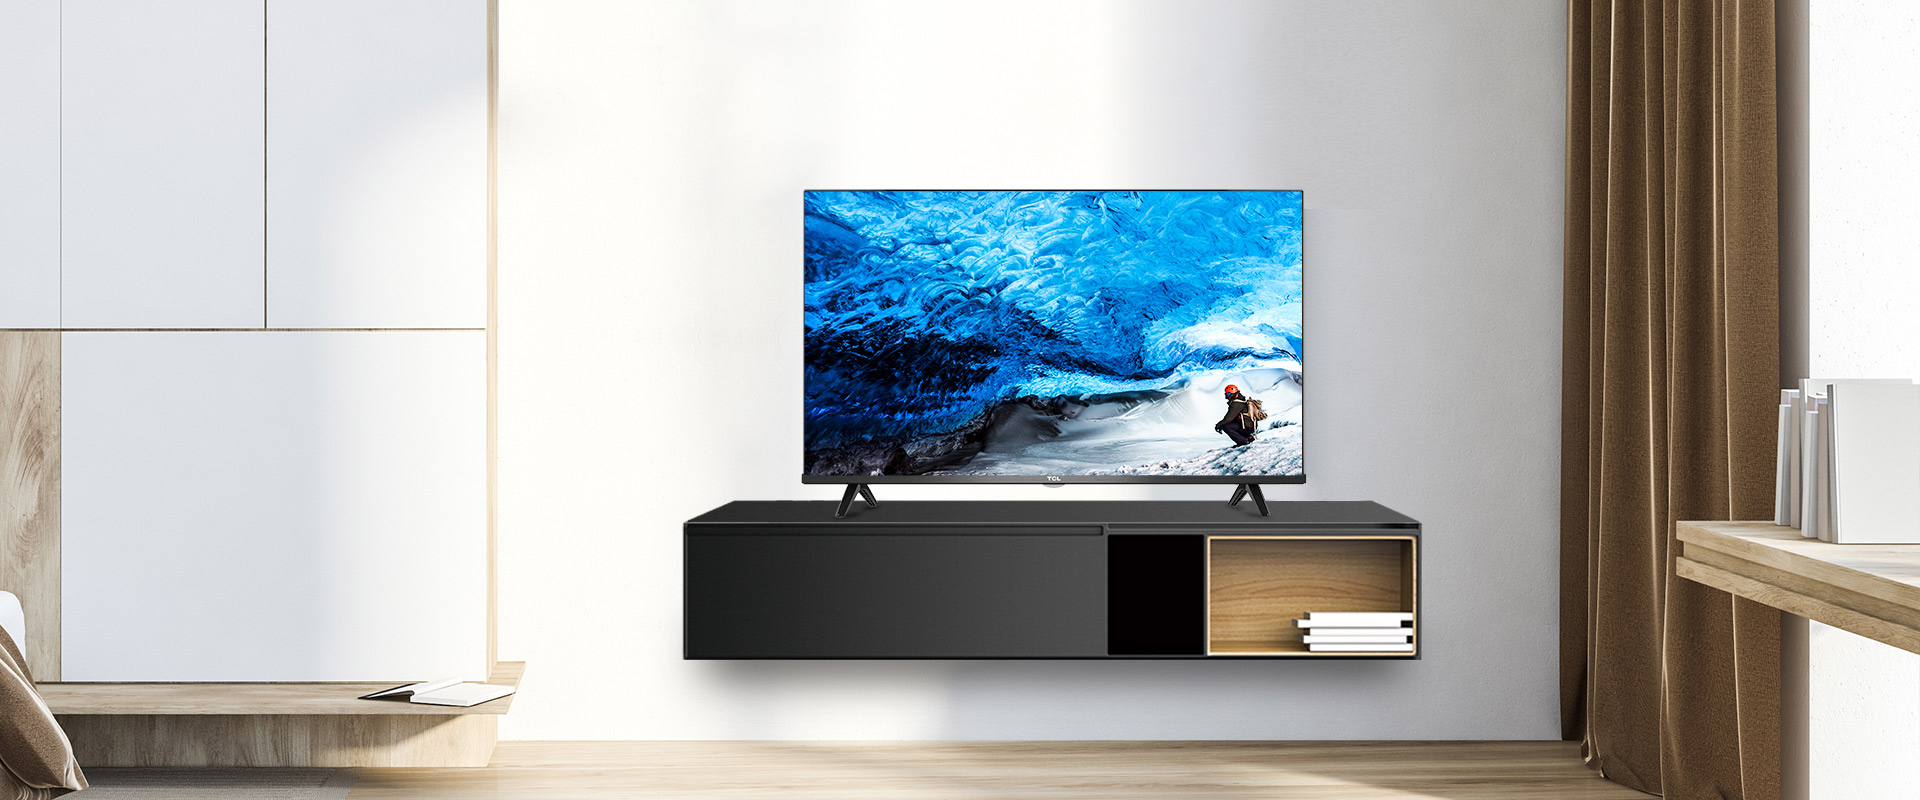tv: (791, 159, 1326, 507)
